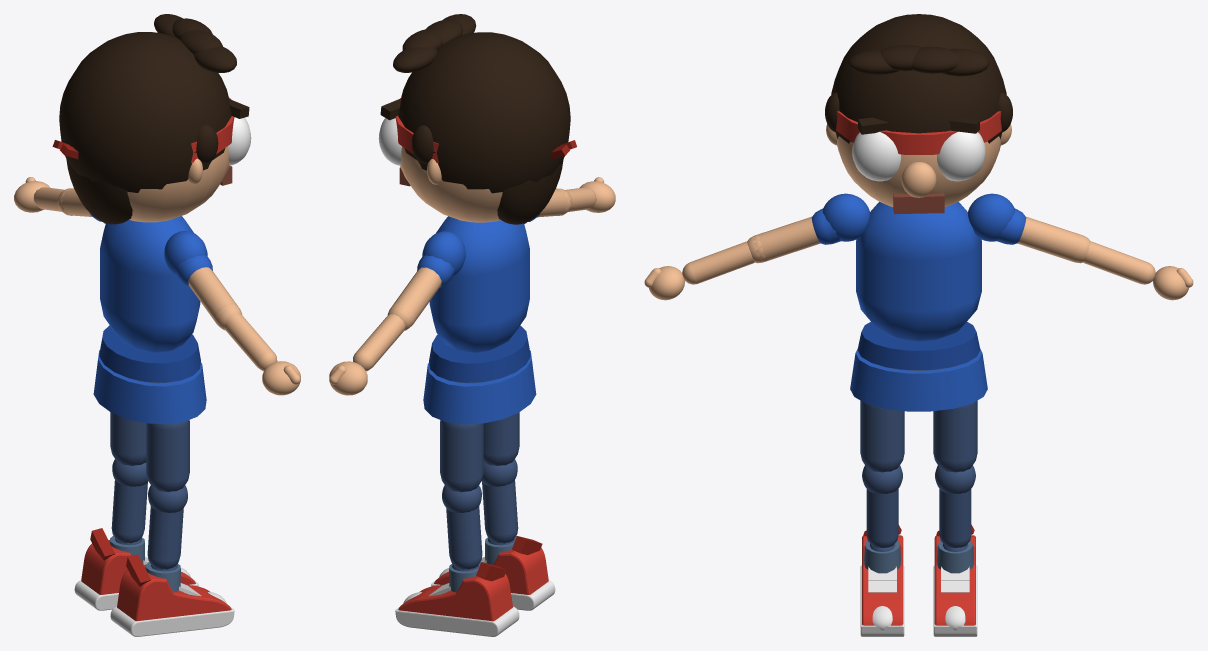
File: spd1.glb
The picture shows the model from 3 angles, left to right: view 1: azimuth 30°, elevation 25°; view 2: azimuth 150°, elevation 25°; view 3: azimuth 270°, elevation 25°; orthographic projection.
Size of the model in its own units: 0.4774 by 1.46 by 1.23.
